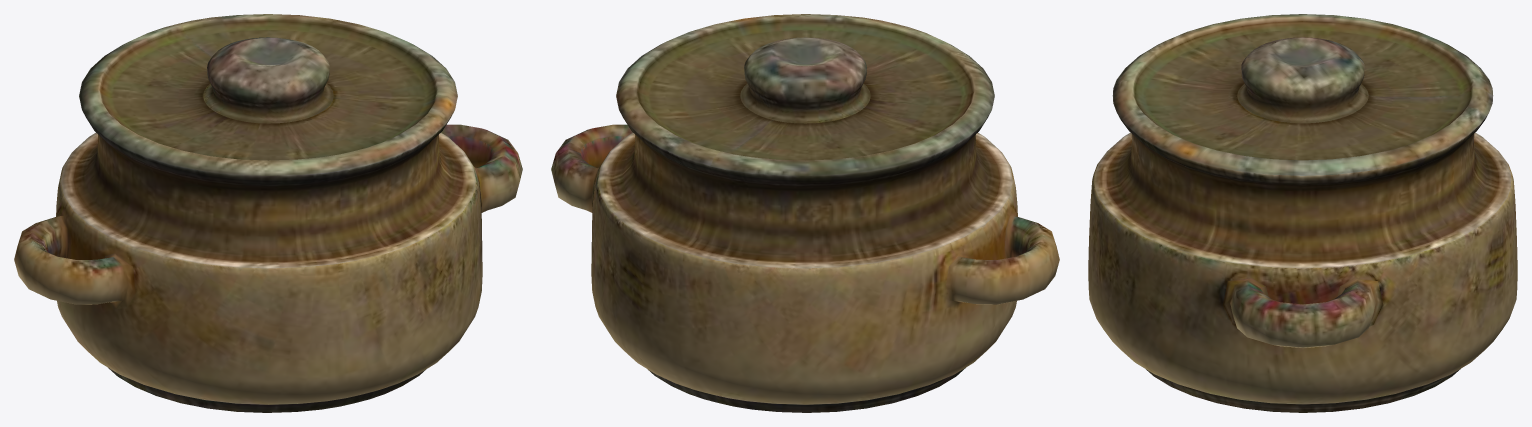
3 views of the same model, side by side, from view 1: azimuth 30°, elevation 25°; view 2: azimuth 150°, elevation 25°; view 3: azimuth 270°, elevation 25° (orthographic).
Visible parts, largest first — view 1: ceramic_pot; view 2: ceramic_pot; view 3: ceramic_pot.
Boxes of the visible parts, <box> form: ceramic_pot: <box>14,14,522,412</box>; ceramic_pot: <box>551,14,1059,412</box>; ceramic_pot: <box>1088,14,1517,412</box>.
Bounding box in the file's own units: 0.6563 × 0.3717 × 0.5018.
Materials: 1 (1 with a texture image).
